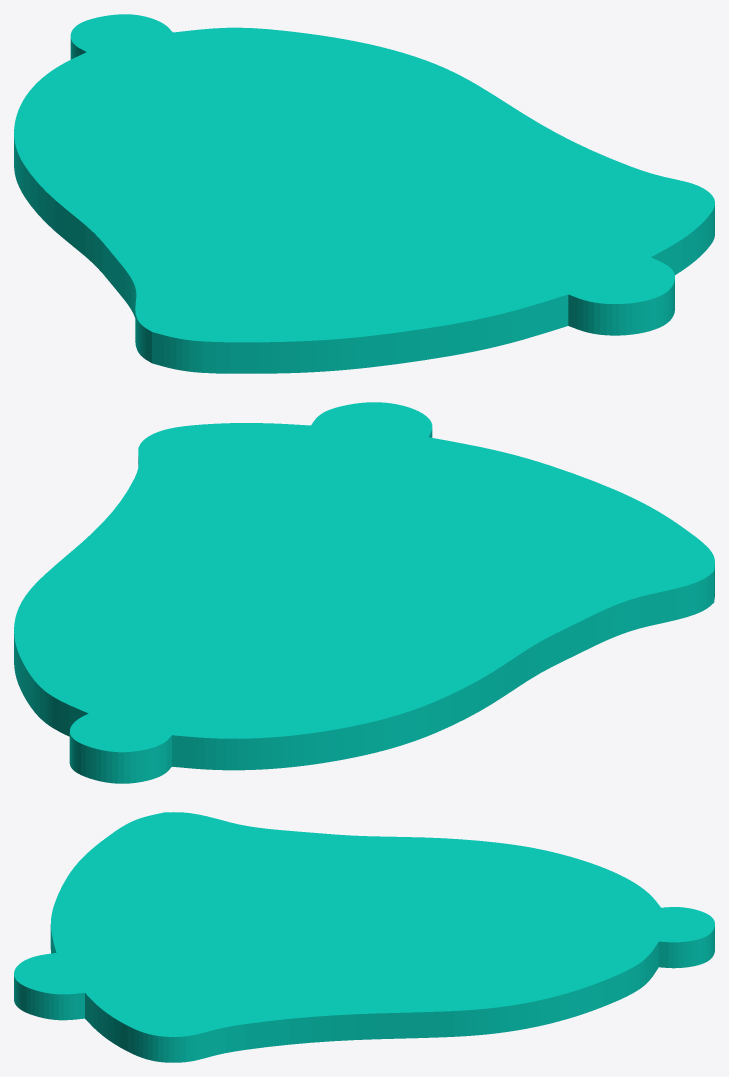
File: bell_tiny_blue.glb
3 views of the same model, one above another, from view 1: azimuth 30°, elevation 25°; view 2: azimuth 150°, elevation 25°; view 3: azimuth 270°, elevation 25° (orthographic). The views are drawn at different scales.
Parts seen in each view (by area): view 1: bell.002; view 2: bell.002; view 3: bell.002.
Boxes of the visible parts, bbox=[...] form: bell.002: bbox=[14, 14, 714, 373]; bell.002: bbox=[14, 402, 714, 783]; bell.002: bbox=[14, 812, 714, 1062].
Bounding box in the file's own units: 0.056 × 0.003 × 0.0738.
